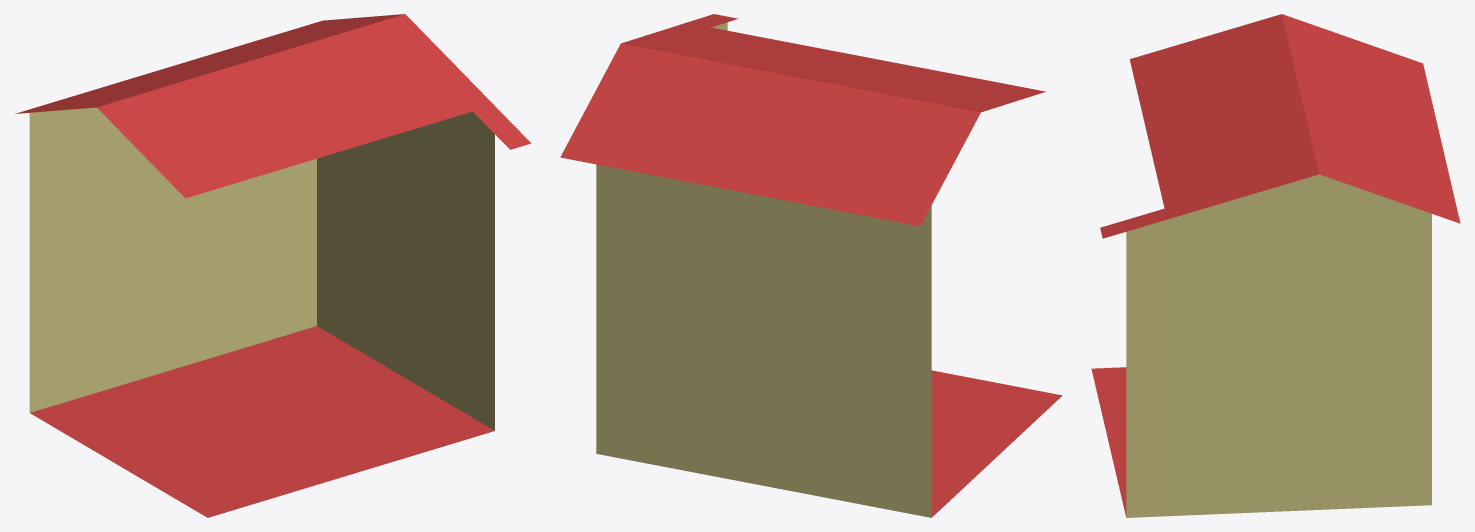
3 views of the same model, side by side, from view 1: azimuth 30°, elevation 25°; view 2: azimuth 150°, elevation 25°; view 3: azimuth 270°, elevation 25° (orthographic). The views are drawn at different scales.
Size of the model in its own units: 7.89 by 7.02 by 7.28.
